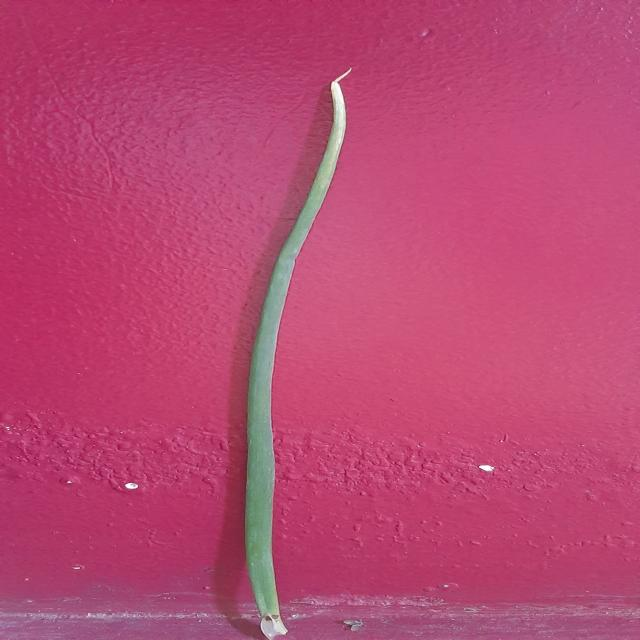onion: (244, 69, 352, 638)
